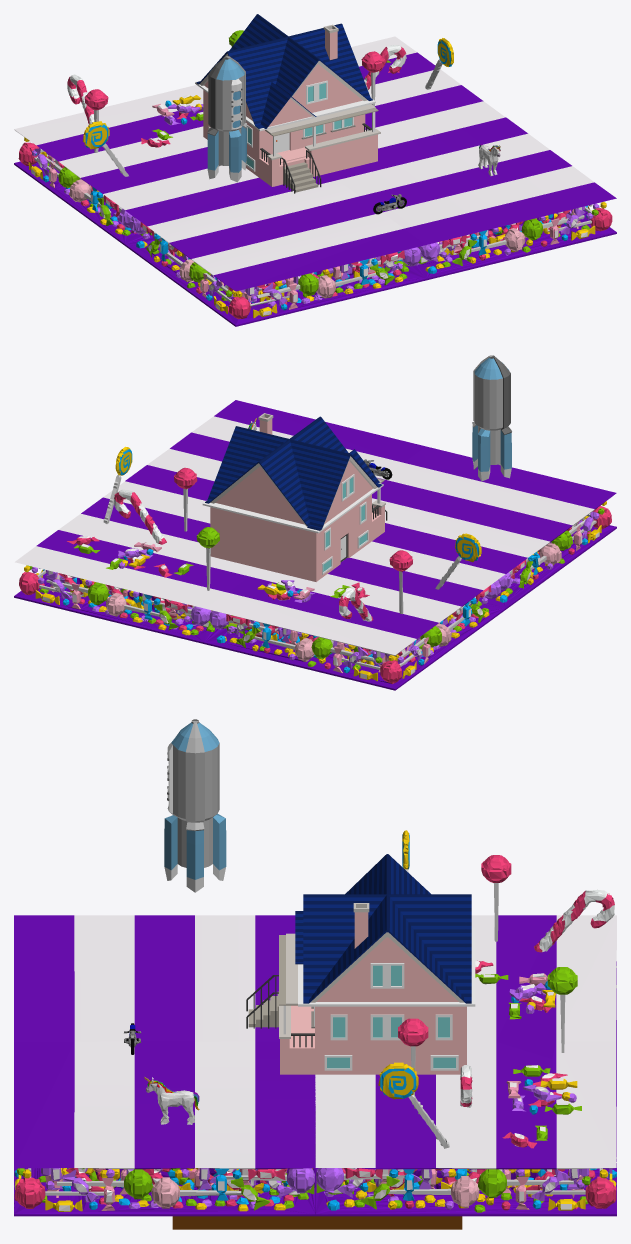
3 renders of one model, top to bottom at view 1: azimuth 30°, elevation 25°; view 2: azimuth 150°, elevation 25°; view 3: azimuth 270°, elevation 25°, orthographic. The views are drawn at different scales.
Visible parts, largest first — view 1: TERRAIN_CANDY, Cube.313, OBJRANDOM_ROCKETSHIP, ANIMAL_UNICORNIO; view 2: TERRAIN_CANDY, Cube.313, OBJRANDOM_ROCKETSHIP; view 3: TERRAIN_CANDY, Cube.313, OBJRANDOM_ROCKETSHIP, UNDERGROUND_ART_PIECE_VAN_GOGH, ANIMAL_UNICORNIO.
Part boxes in pixels (left/top/right/bottom): TERRAIN_CANDY: left=14, top=30, right=616, bottom=326; Cube.313: left=195, top=14, right=380, bottom=193; OBJRANDOM_ROCKETSHIP: left=207, top=56, right=246, bottom=182; ANIMAL_UNICORNIO: left=478, top=144, right=500, bottom=175; TERRAIN_CANDY: left=14, top=400, right=616, bottom=690; Cube.313: left=202, top=413, right=387, bottom=581; OBJRANDOM_ROCKETSHIP: left=472, top=355, right=511, bottom=481; TERRAIN_CANDY: left=14, top=830, right=616, bottom=1216; Cube.313: left=246, top=854, right=475, bottom=1074; OBJRANDOM_ROCKETSHIP: left=164, top=719, right=226, bottom=892; UNDERGROUND_ART_PIECE_VAN_GOGH: left=172, top=1216, right=462, bottom=1229; ANIMAL_UNICORNIO: left=144, top=1077, right=199, bottom=1124.
Size of the model in its own units: 4059 by 2262 by 4000.
Materials: 35 (3 with a texture image).
